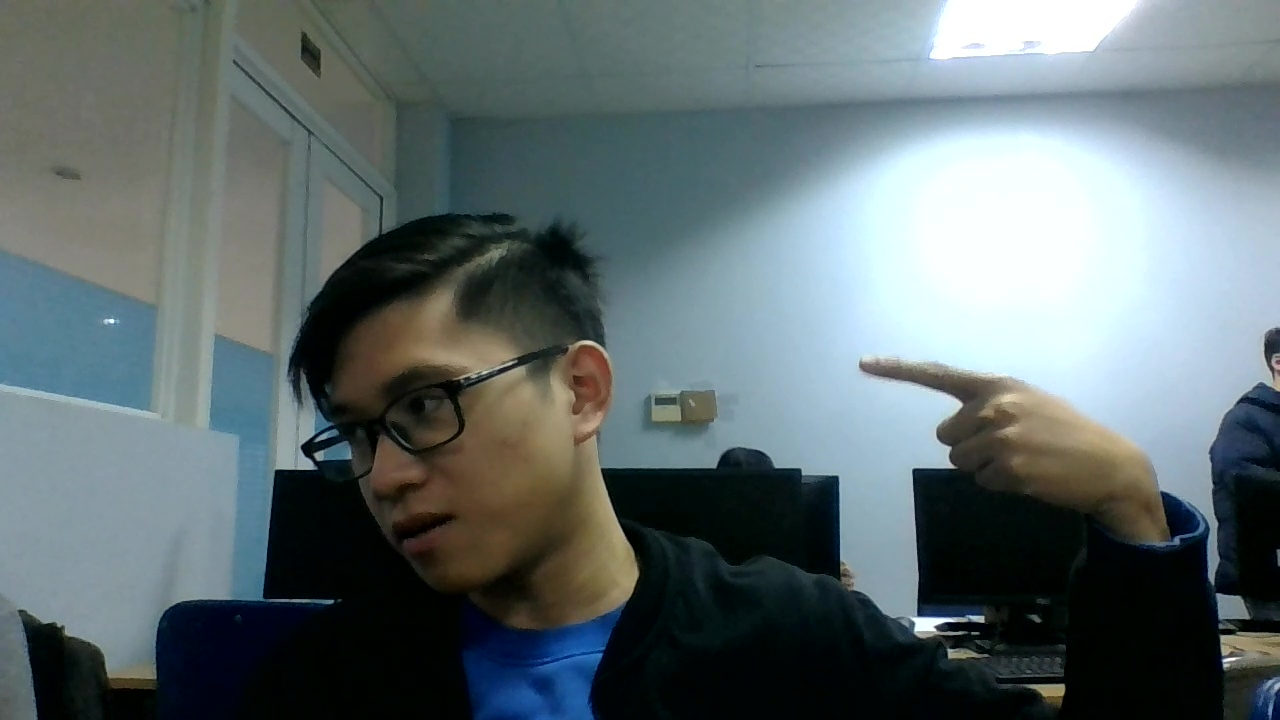right: (856, 345, 1169, 507)
